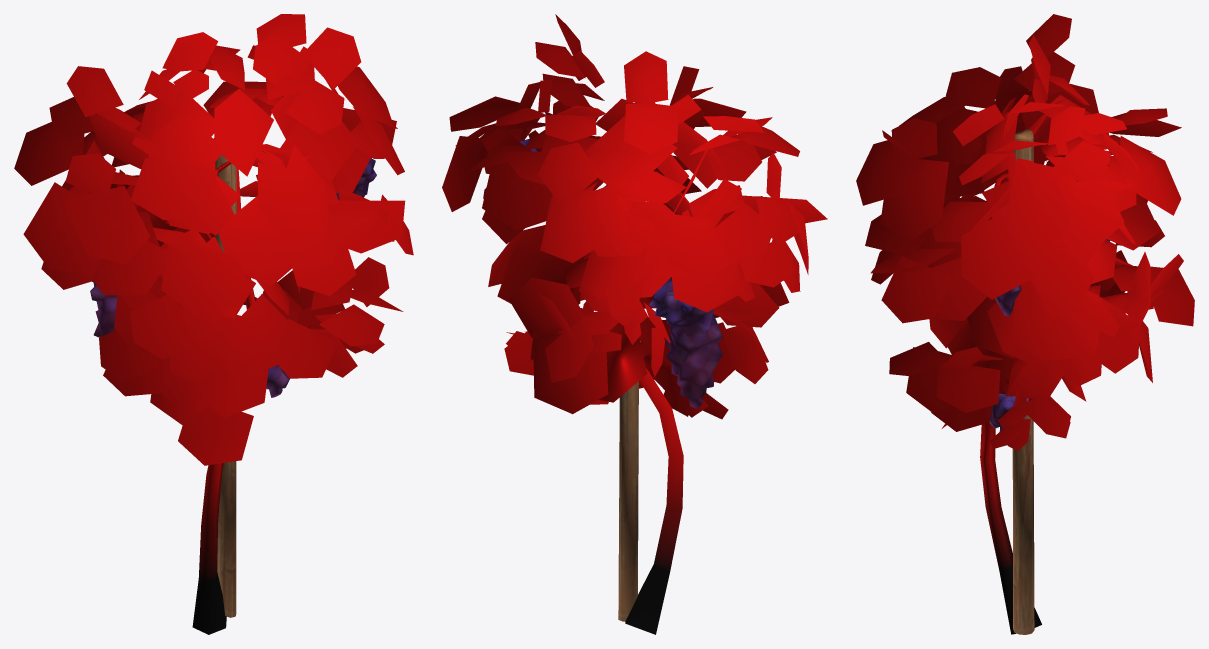
The model's file is SM_Farm_GrapevineFruits_01.fbx.
3 views of the same model, side by side, from view 1: azimuth 30°, elevation 25°; view 2: azimuth 150°, elevation 25°; view 3: azimuth 270°, elevation 25° (orthographic). The views are drawn at different scales.
Parts seen in each view (by area): view 1: SM_Farm_GrapevineFruits_01_LOD0; view 2: SM_Farm_GrapevineFruits_01_LOD0; view 3: SM_Farm_GrapevineFruits_01_LOD0.
Part boxes in pixels (<box>): SM_Farm_GrapevineFruits_01_LOD0: <box>14,14,413,634</box>; SM_Farm_GrapevineFruits_01_LOD0: <box>442,14,827,634</box>; SM_Farm_GrapevineFruits_01_LOD0: <box>856,14,1194,634</box>.
Bounding box in the file's own units: 110 × 169 × 88.44.
